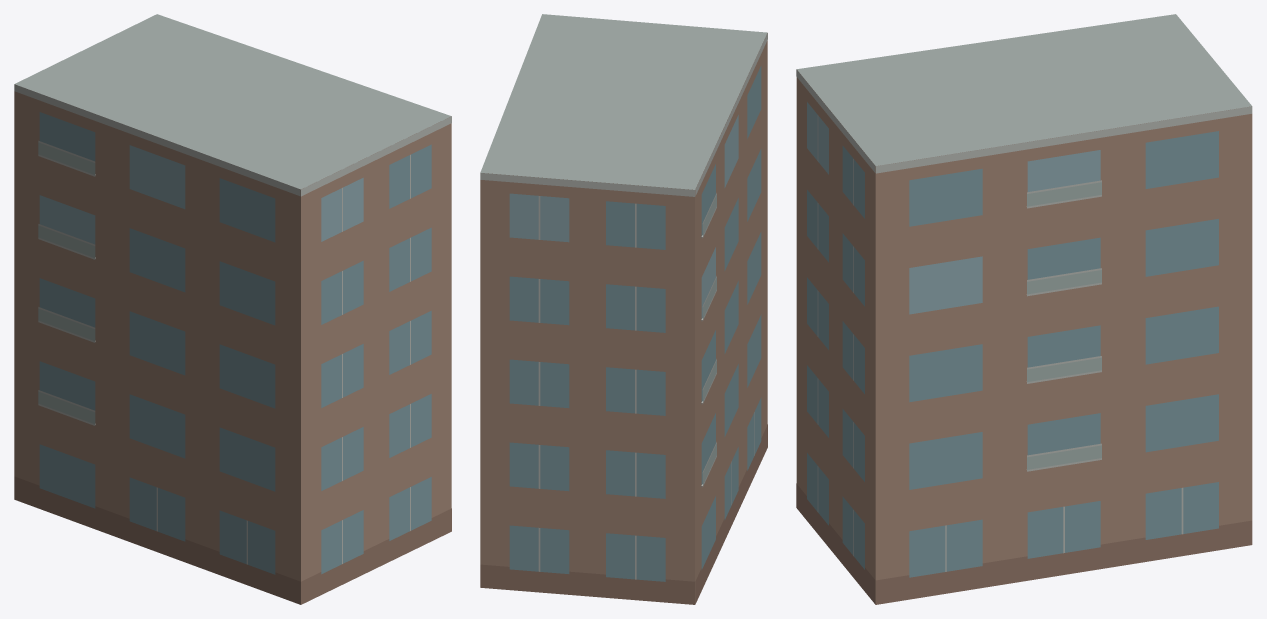
File: survey-upis-32749606.glb
3 renders of one model, left to right at view 1: azimuth 30°, elevation 25°; view 2: azimuth 150°, elevation 25°; view 3: azimuth 270°, elevation 25°, orthographic. The views are drawn at different scales.
Parts seen in each view (by area): view 1: survey-upis-32749606.tmp; view 2: survey-upis-32749606.tmp; view 3: survey-upis-32749606.tmp.
Boxes of the visible parts, <box> form: survey-upis-32749606.tmp: <box>14,14,451,604</box>; survey-upis-32749606.tmp: <box>480,14,767,604</box>; survey-upis-32749606.tmp: <box>796,14,1252,604</box>.
Size of the model in its own units: 10.72 by 14.4 by 13.57.
